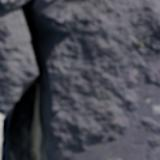broken_brick: (0, 0, 159, 159)
crack: (0, 2, 54, 159)
